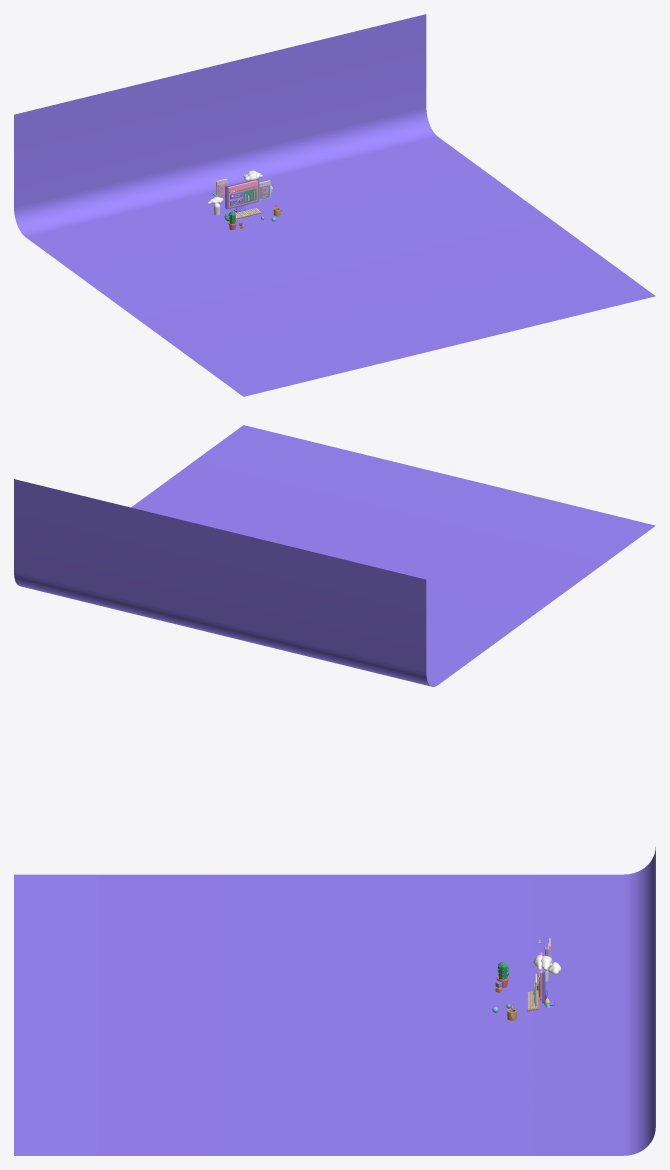
The model's file is minimalistic_3d_pc_desktop.glb.
3 views of the same model, one above another, from view 1: azimuth 30°, elevation 25°; view 2: azimuth 150°, elevation 25°; view 3: azimuth 270°, elevation 25° (orthographic). The views are drawn at different scales.
Parts seen in each view (by area): view 1: Plane.007_12; view 2: Plane.007_12; view 3: Plane.007_12.
Part boxes in pixels (x1=…): Plane.007_12: x1=14, y1=14, x2=655, y2=396; Plane.007_12: x1=14, y1=425, x2=655, y2=686; Plane.007_12: x1=14, y1=847, x2=655, y2=1155.
Size of the model in its own units: 26.41 by 6.99 by 25.47.
